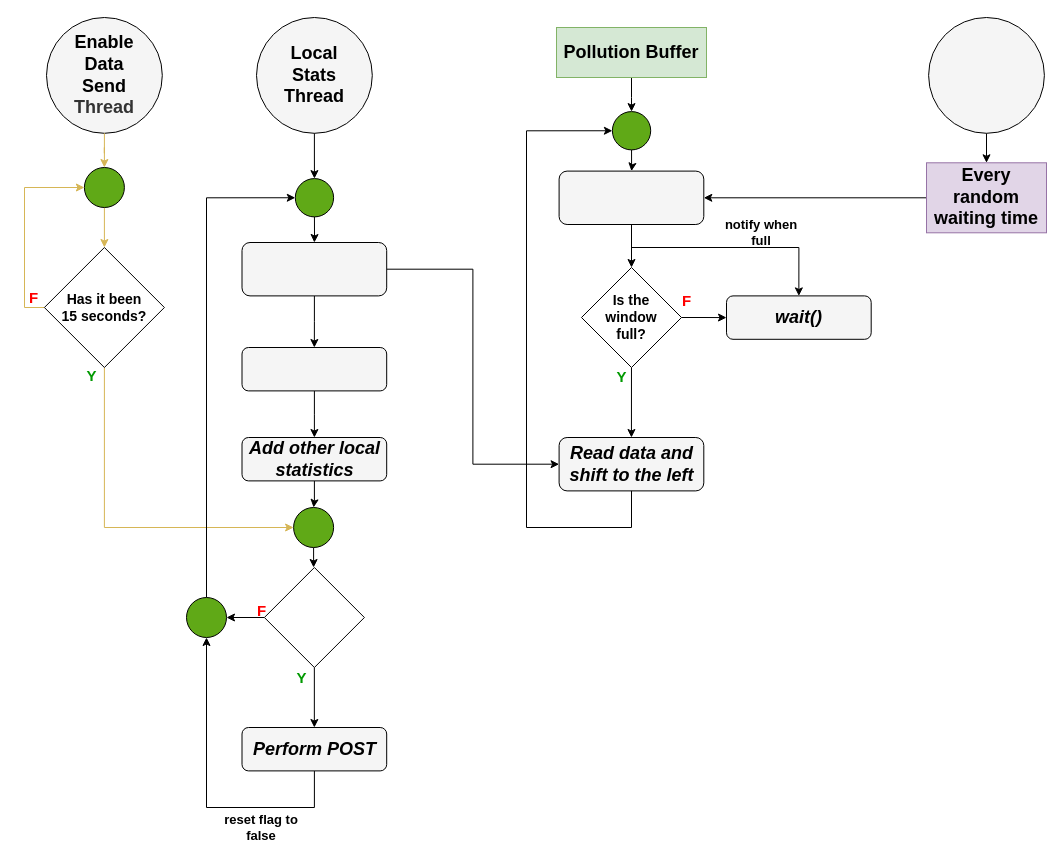
Image size: 1064x860. Some labels were removed from this diagram. Each missing label, with the box of its shape:
Add measurements: (558, 170, 704, 224)
Can I send?: (263, 566, 364, 668)
Compute Average: (241, 346, 387, 391)
PM10 Simulator: (928, 16, 1044, 133)
Read pollution: (241, 242, 387, 296)
